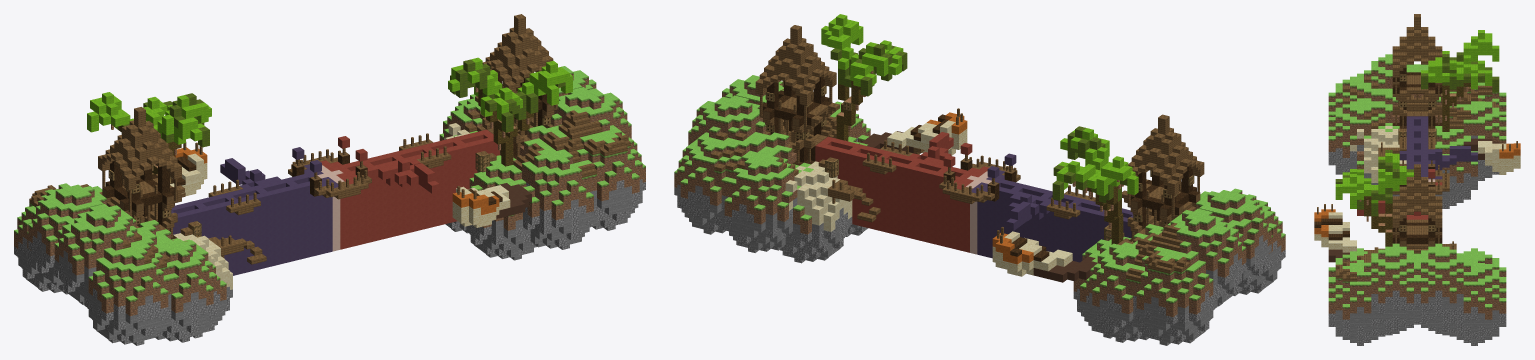
The model's file is minecraft.obj.
3 renders of one model, left to right at view 1: azimuth 30°, elevation 25°; view 2: azimuth 150°, elevation 25°; view 3: azimuth 270°, elevation 25°, orthographic. The views are drawn at different scales.
Size of the model in its own units: 73 by 27 by 29.
